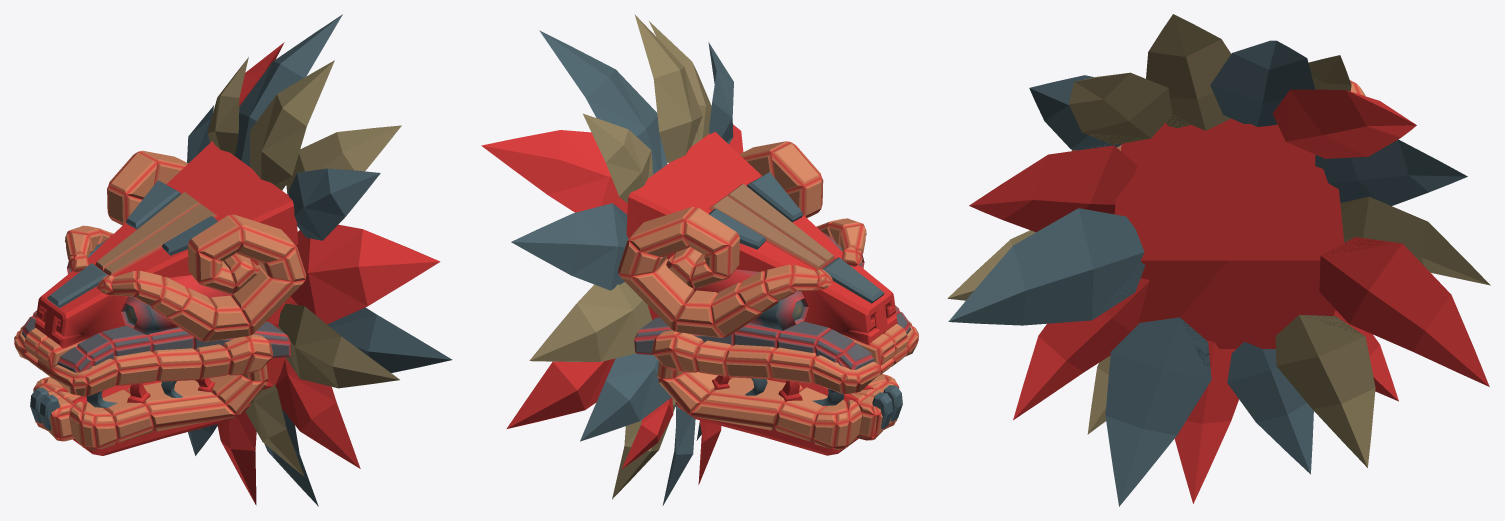
Rendered from ENV_Relic_03_Dragon_03_Strong.fbx.
3 views of the same model, side by side, from view 1: azimuth 30°, elevation 25°; view 2: azimuth 150°, elevation 25°; view 3: azimuth 270°, elevation 25° (orthographic). The views are drawn at different scales.
Visible parts, largest first — view 1: ENV_Relic_03_Dragon_03_Strong; view 2: ENV_Relic_03_Dragon_03_Strong; view 3: ENV_Relic_03_Dragon_03_Strong.
Part boxes in pixels (<box>): ENV_Relic_03_Dragon_03_Strong: <box>14,14,452,506</box>; ENV_Relic_03_Dragon_03_Strong: <box>481,14,918,505</box>; ENV_Relic_03_Dragon_03_Strong: <box>947,14,1490,506</box>.
Size of the model in its own units: 665 by 850 by 782.
